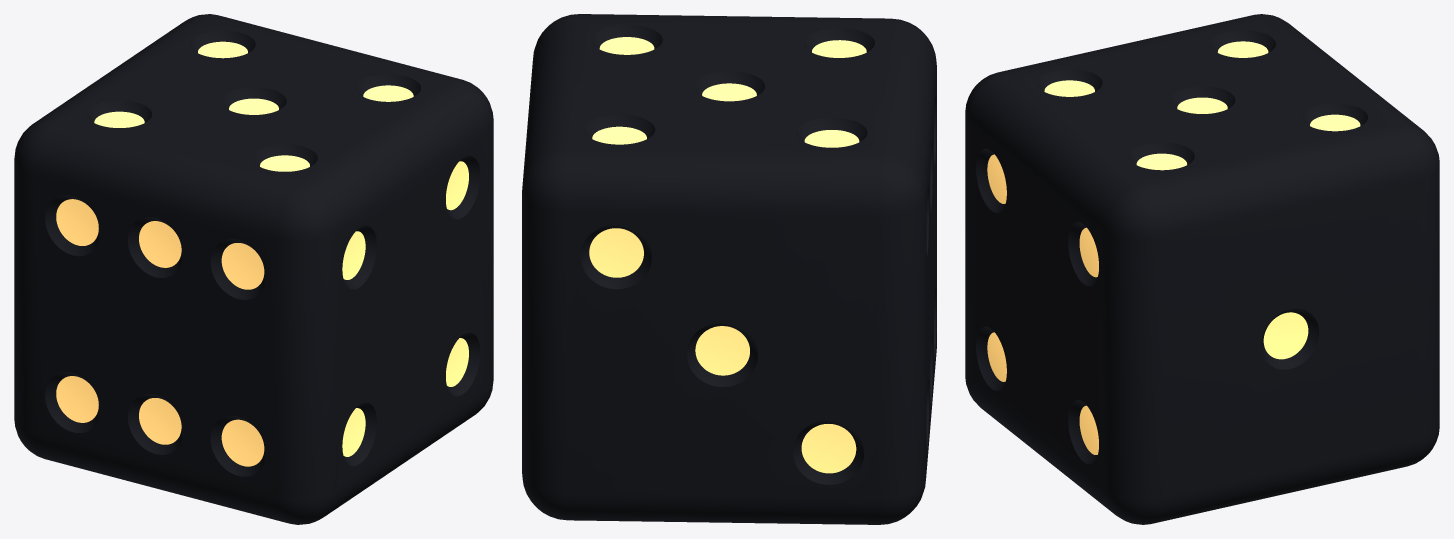
File: die.glb
3 views of the same model, side by side, from view 1: azimuth 30°, elevation 25°; view 2: azimuth 150°, elevation 25°; view 3: azimuth 270°, elevation 25° (orthographic). The views are drawn at different scales.
Parts seen in each view (by area): view 1: MM_Die; view 2: MM_Die; view 3: MM_Die.
Part boxes in pixels (x1=…): MM_Die: x1=14, y1=14, x2=493, y2=524; MM_Die: x1=522, y1=14, x2=936, y2=524; MM_Die: x1=965, y1=14, x2=1439, y2=524.
Bounding box in the file's own units: 0.0375 × 0.0295 × 0.0375.
